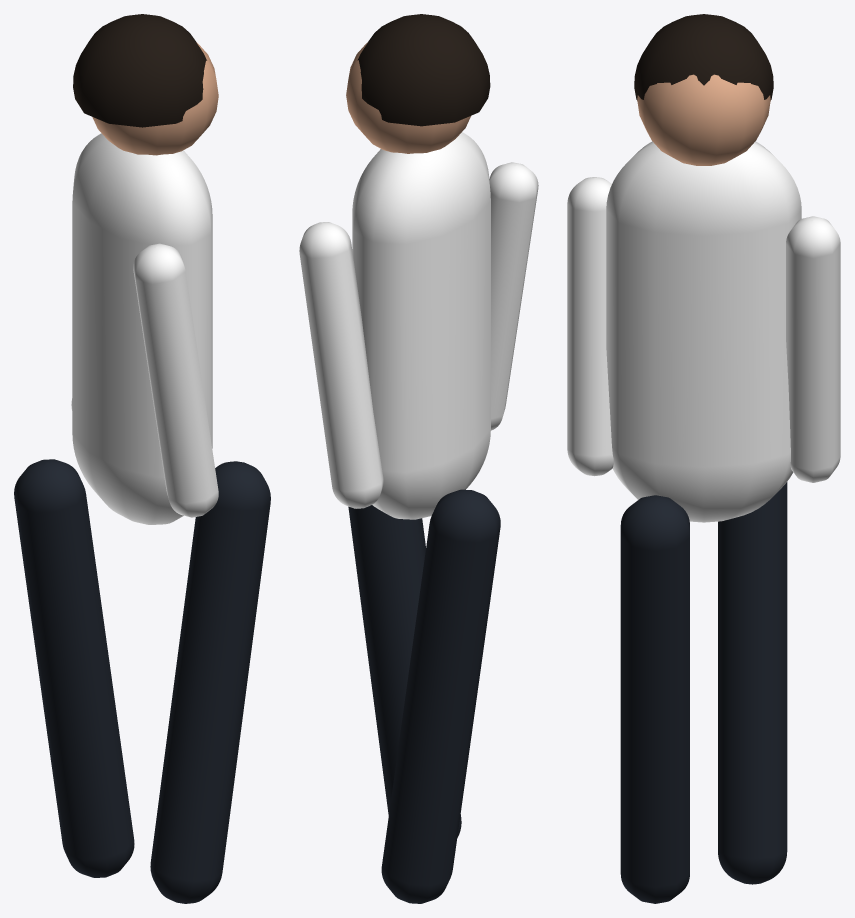
File: persona.glb
3 views of the same model, side by side, from view 1: azimuth 30°, elevation 25°; view 2: azimuth 150°, elevation 25°; view 3: azimuth 270°, elevation 25° (orthographic).
Size of the model in its own units: 0.3801 by 1.58 by 0.45.
